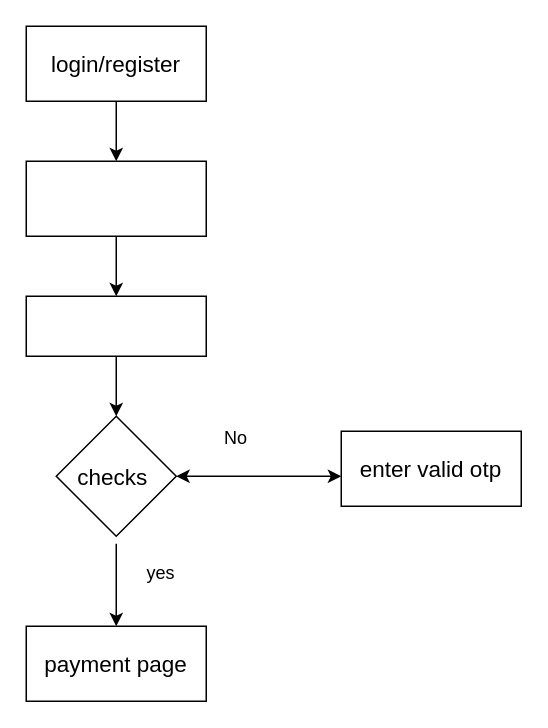
The diagram is 548 pixels wide and 728 high, and some of its shapes have lost their labels. Here are the shapes that lost their labels. From the top down, the centre of each, then its label:
the point at 115,198: country code &ph.no
the point at 115,325: Enter OTP
